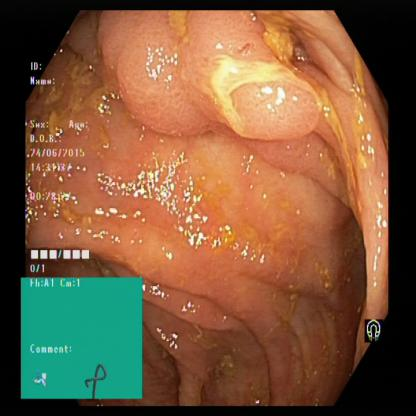Labels: (29, 53, 106, 276), (22, 275, 143, 400), (358, 313, 395, 351)
Polyps: (110, 18, 323, 134)
